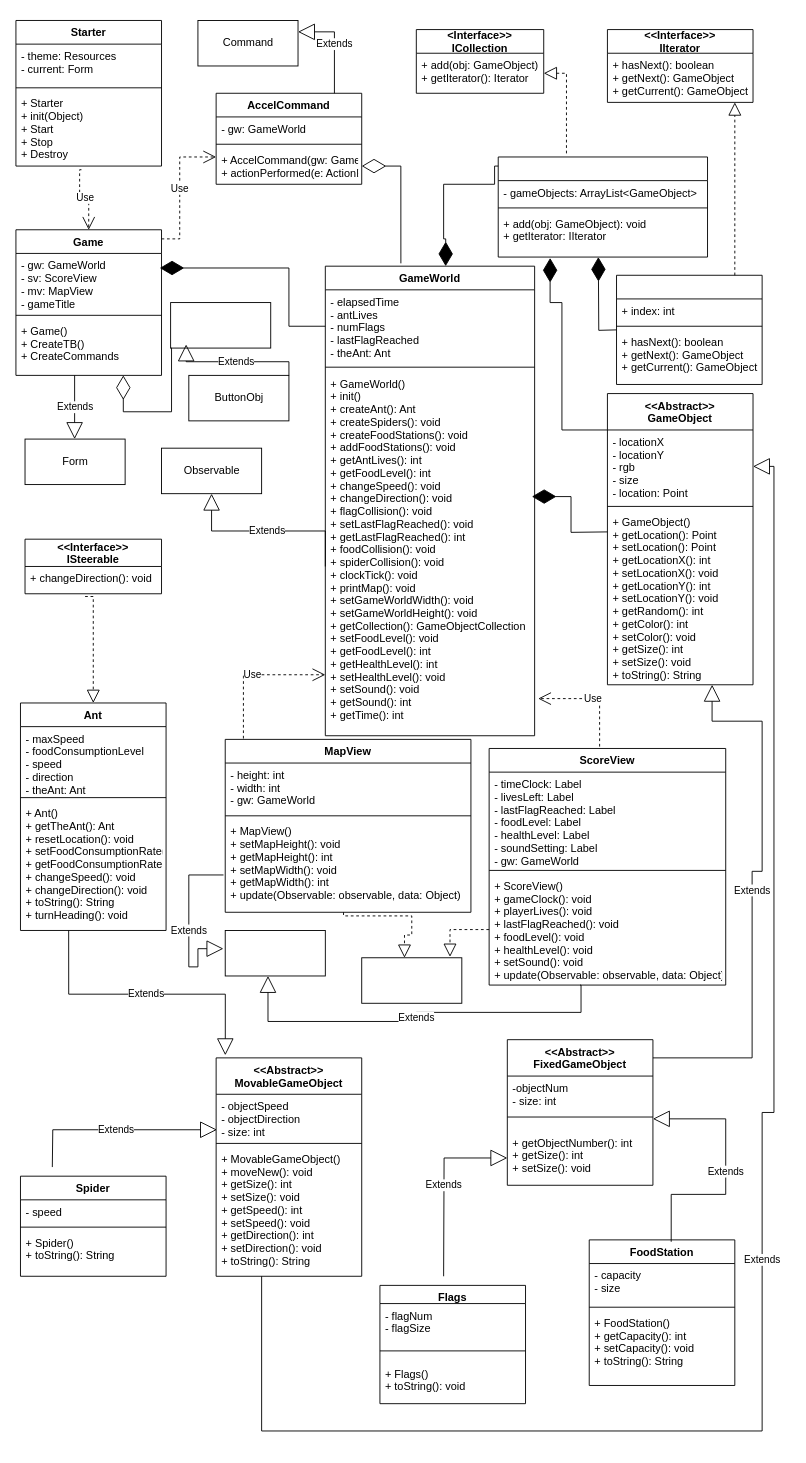
The diagram is 806 pixels wide and 1463 high, and some of its shapes have lost their labels. Each missing label, with the box of its shape:
Button: (170, 302, 271, 348)
Container: (224, 930, 325, 976)
GameObjectCollection: (497, 156, 708, 257)
GameObjectIterator: (616, 274, 762, 384)
«interface» Observer: (361, 957, 462, 1003)
